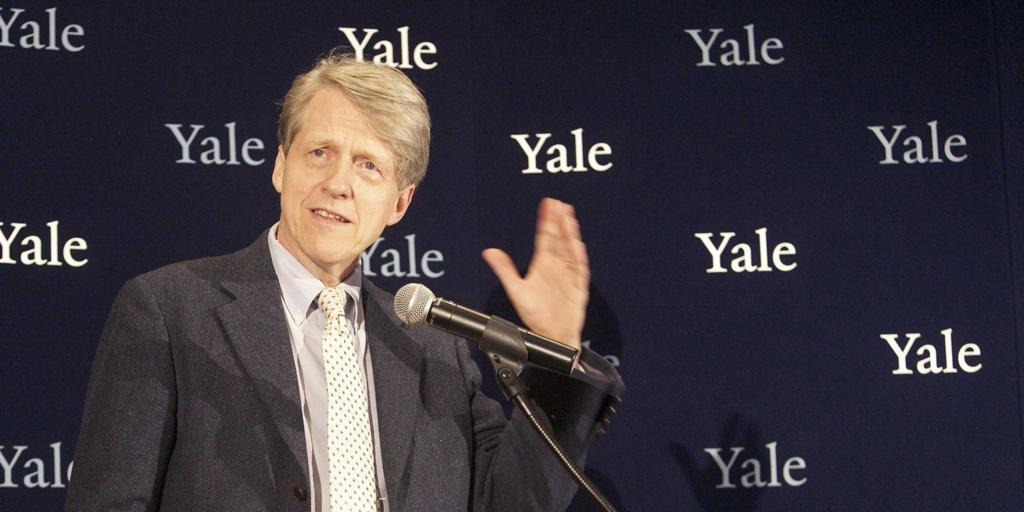face: (291, 89, 395, 257)
